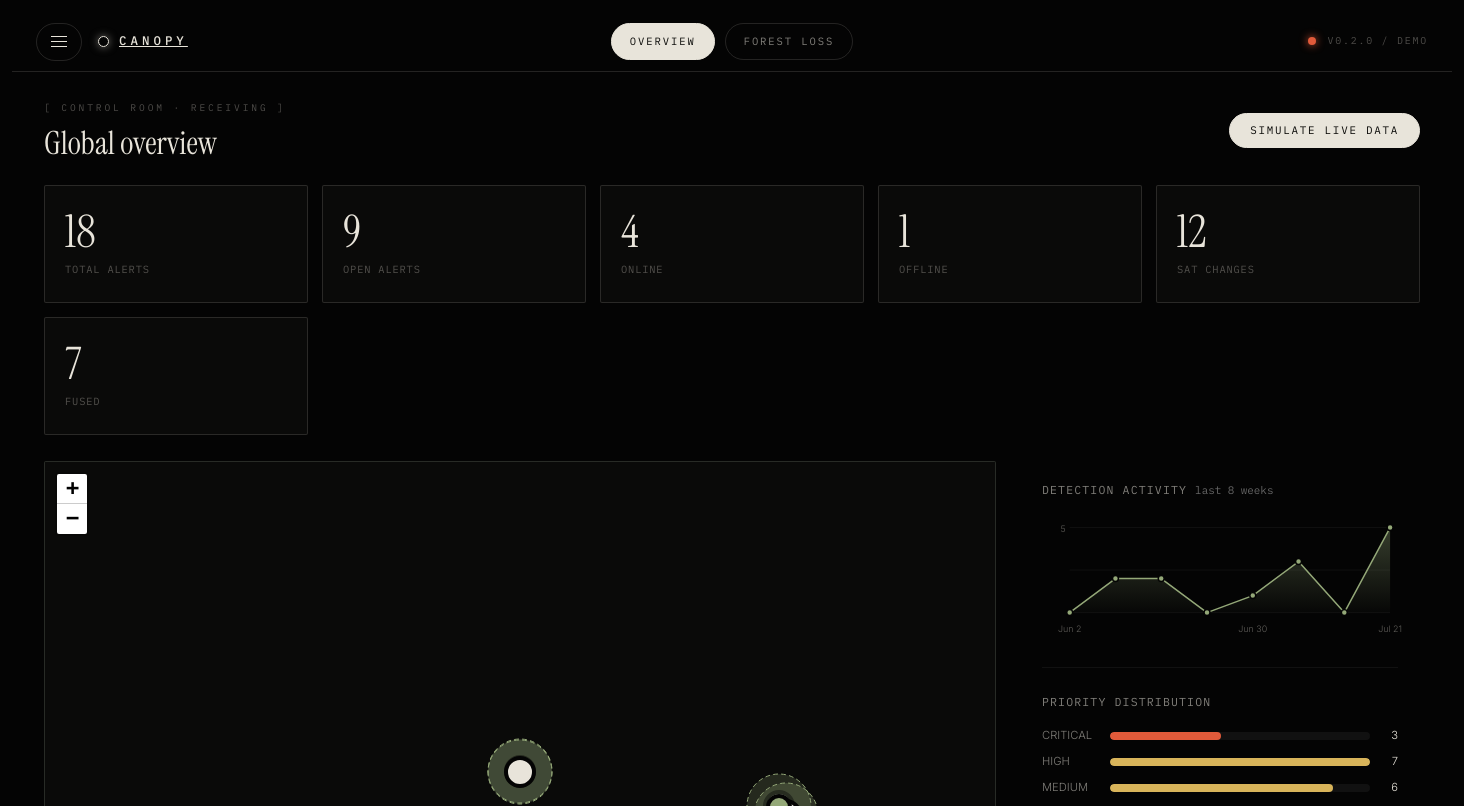
App › can navigate to settings page
Expected: the heading "Global overview" is shown, [44,122,217,164]
Click the button named "Open navigation menu": (59, 42) [36,22,82,60]
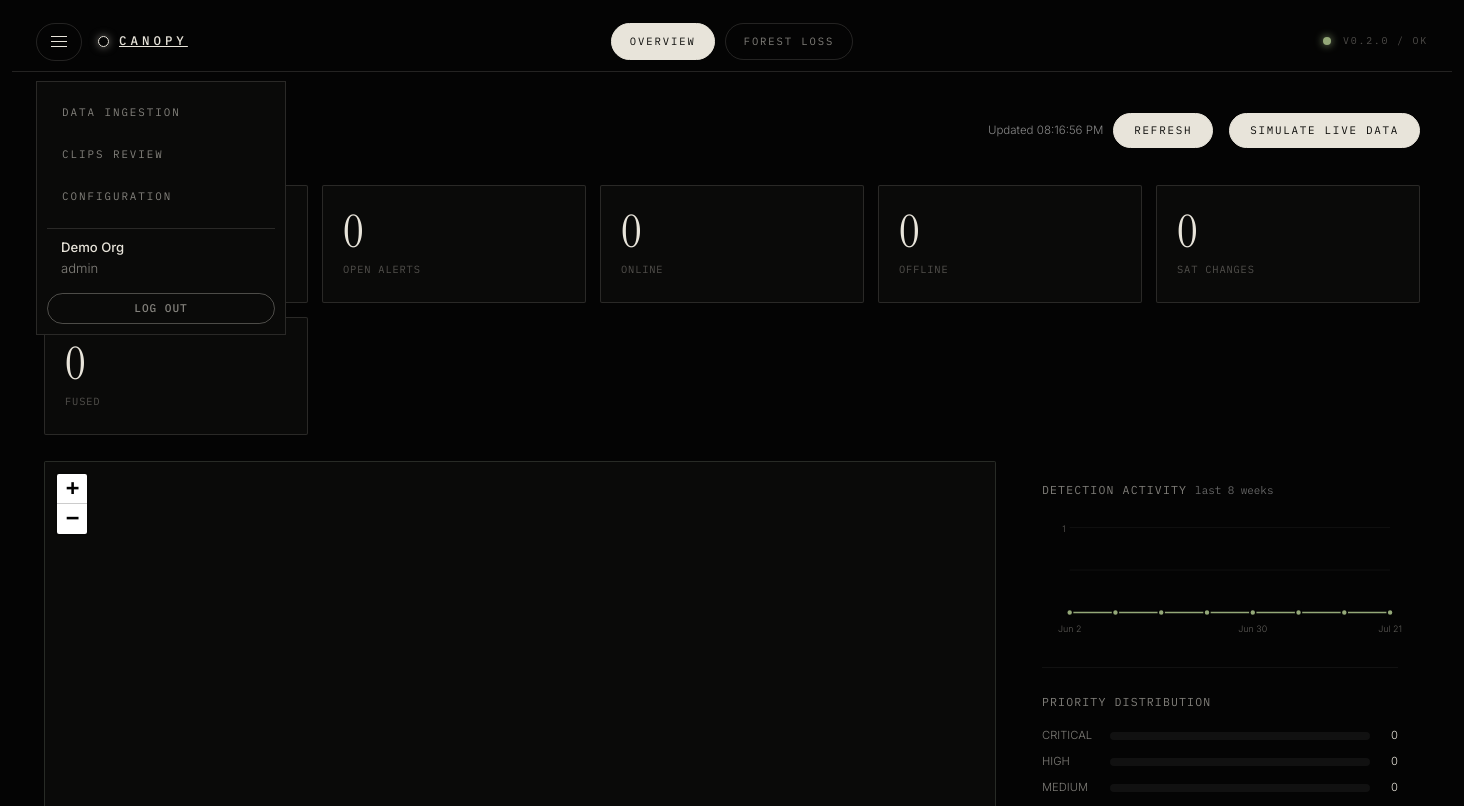
Click the link "Configuration": (117, 196) [62,189,172,203]
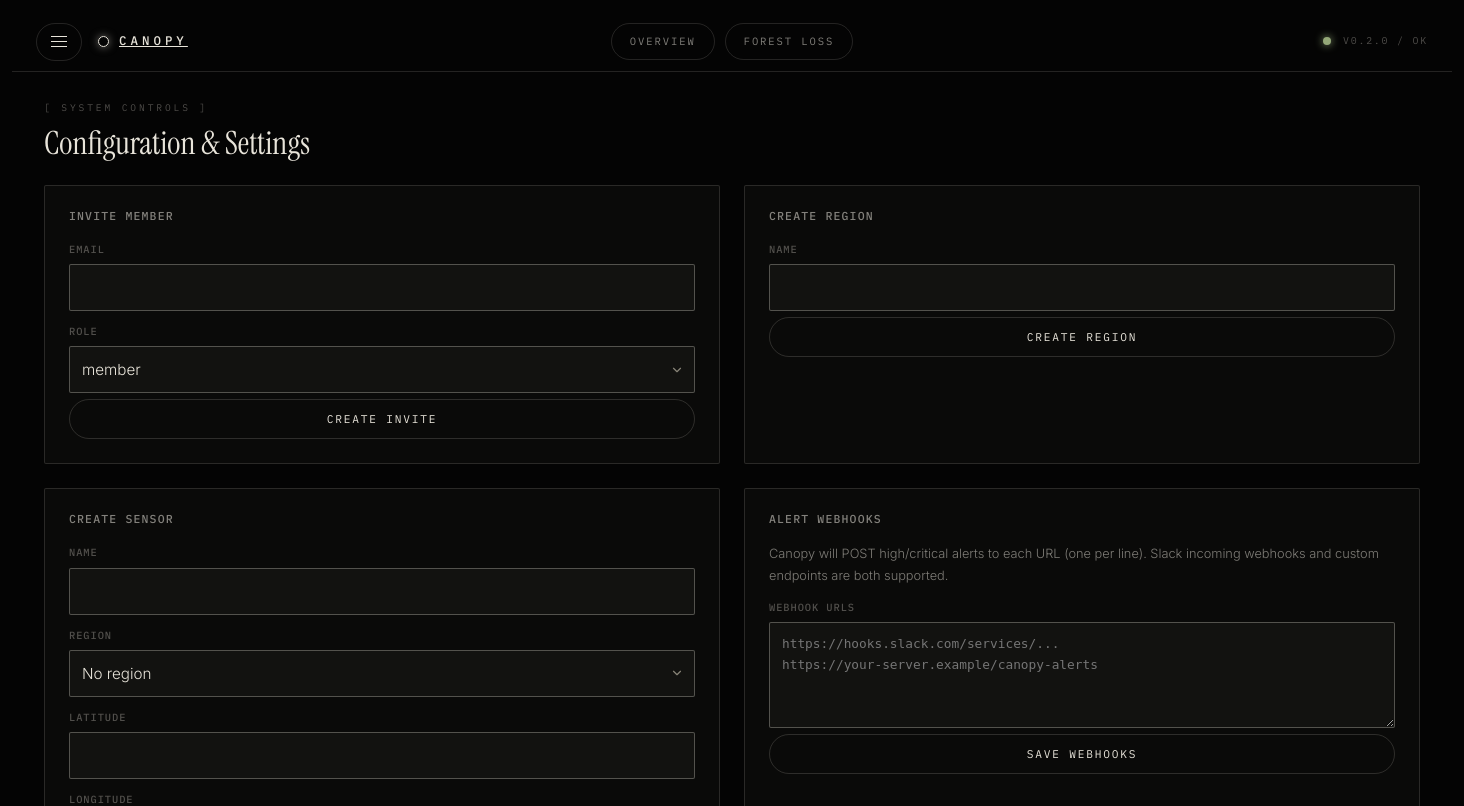
Expected: the heading "Configuration & Settings" is shown, [44,126,310,161]
Expected: the heading "Create sensor" is shown, [69,512,174,527]
Expected: the heading "Create region" is shown, [769,209,874,224]
